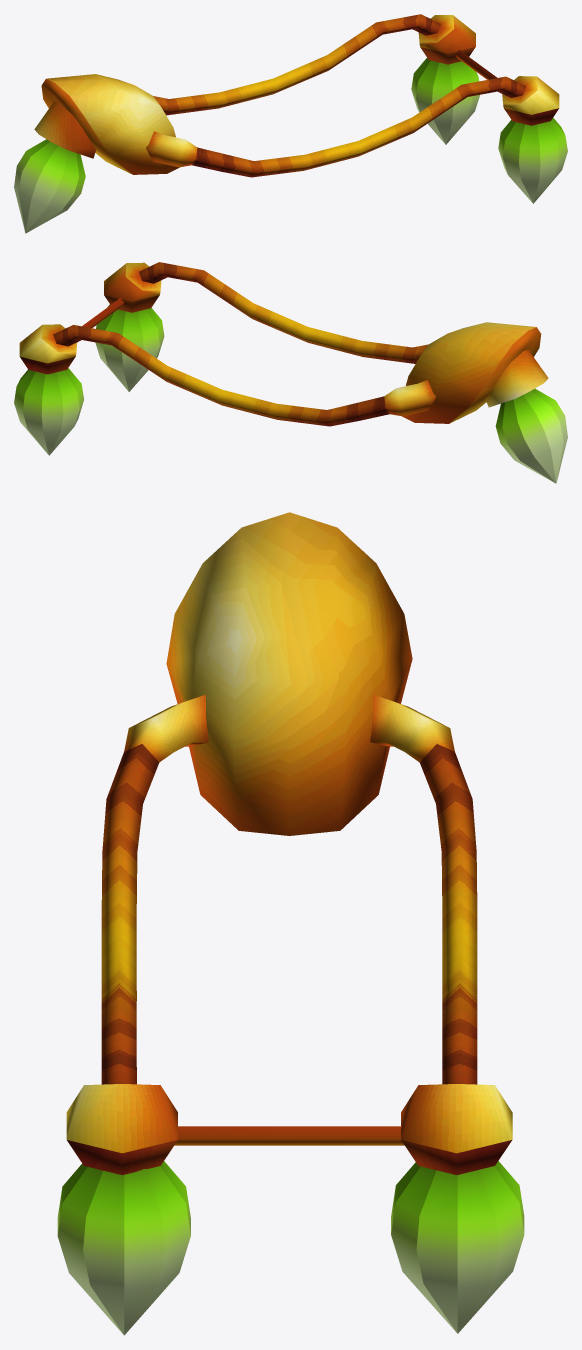
Rendered from Freestyler_Power1.glb.
3 views of the same model, one above another, from view 1: azimuth 30°, elevation 25°; view 2: azimuth 150°, elevation 25°; view 3: azimuth 270°, elevation 25° (orthographic). The views are drawn at different scales.
Parts seen in each view (by area): view 1: Freestyler_Power1, back, Left, Right; view 2: Freestyler_Power1, back, Right, Left; view 3: Freestyler_Power1, Left, Right.
Part boxes in pixels (left/top/right/bottom): Freestyler_Power1: left=34, top=14, right=559, bottom=177; back: left=14, top=139, right=85, bottom=233; Left: left=498, top=117, right=567, bottom=203; Right: left=411, top=58, right=479, bottom=144; Freestyler_Power1: left=19, top=262, right=548, bottom=426; back: left=495, top=388, right=567, bottom=483; Right: left=14, top=368, right=83, bottom=455; Left: left=95, top=304, right=164, bottom=391; Freestyler_Power1: left=66, top=512, right=512, bottom=1175; Left: left=57, top=1161, right=190, bottom=1335; Right: left=391, top=1161, right=524, bottom=1333.
Size of the model in its own units: 12.67 by 4.79 by 5.09.
Materials: 2 (2 with a texture image).
